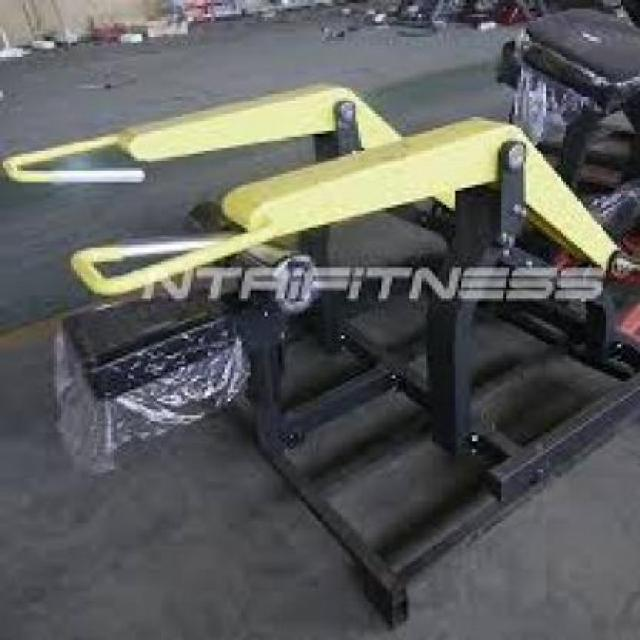seated dip machine: (7, 84, 640, 626)
